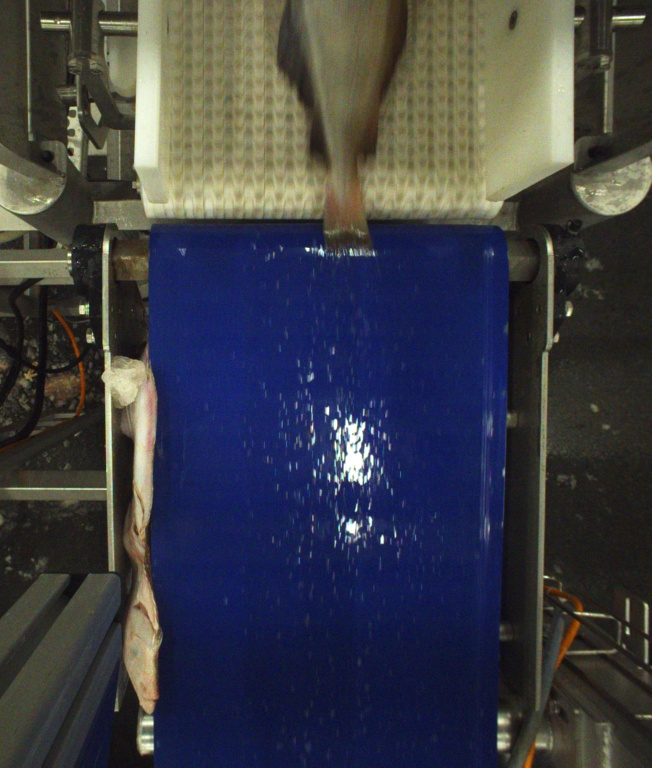BIB: (277, 0, 402, 253)
